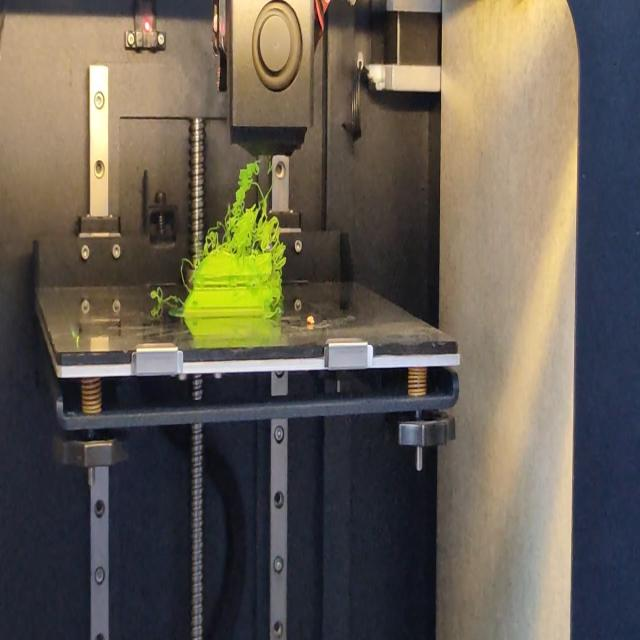spaghetti: (206, 151, 286, 256), (150, 288, 183, 306), (179, 253, 191, 291), (274, 303, 284, 318)
